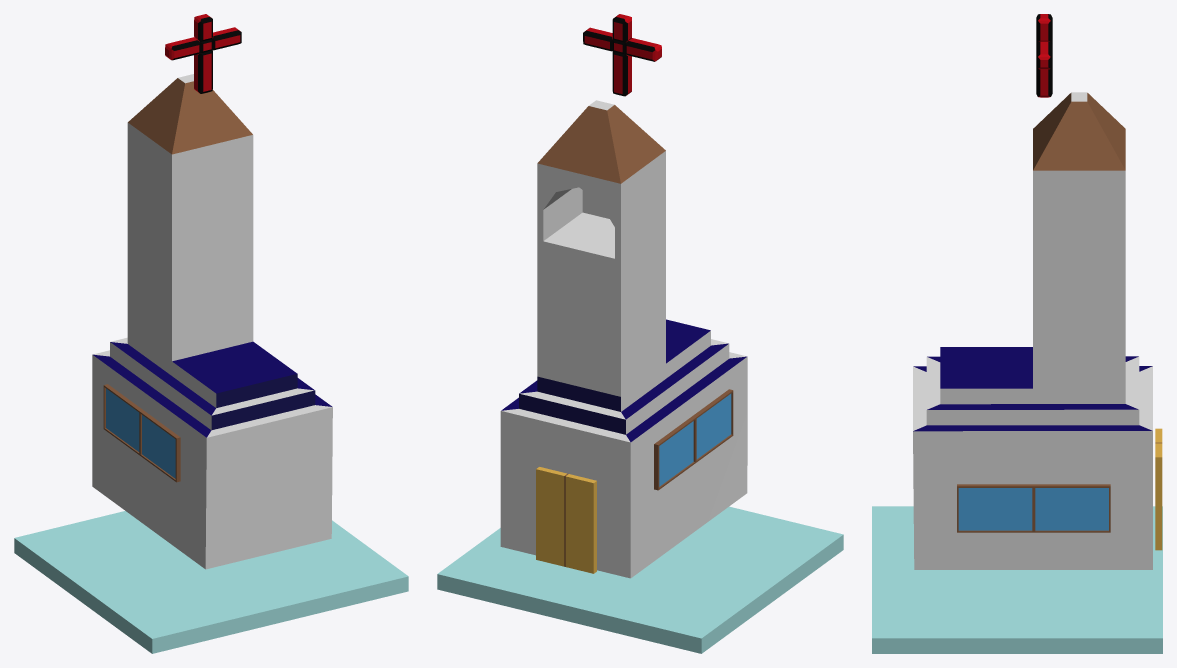
Rendered from iglesia.DAE.
The picture shows the model from 3 angles, left to right: view 1: azimuth 30°, elevation 25°; view 2: azimuth 150°, elevation 25°; view 3: azimuth 270°, elevation 25°; orthographic projection. The views are drawn at different scales.
Parts seen in each view (by area): view 1: Box01, Box006, Box04, Box02; view 2: Box01, Box006, Box03, Box04, Box02; view 3: Box01, Box006, Box05, Box02, Box03.
Boxes of the visible parts, x1,y1,x2,y2 form: Box01: (92,74,332,569); Box006: (14,511,408,653); Box04: (103,384,180,482); Box02: (165,14,241,93); Box01: (500,100,747,578); Box006: (437,506,843,653); Box03: (536,467,596,573); Box04: (654,389,733,490); Box02: (583,14,661,96); Box01: (913,92,1152,569); Box006: (872,506,1162,653); Box05: (957,484,1110,532); Box02: (1036,14,1052,97); Box03: (1155,428,1162,550).
Size of the model in its own units: 133 by 124 by 270.
